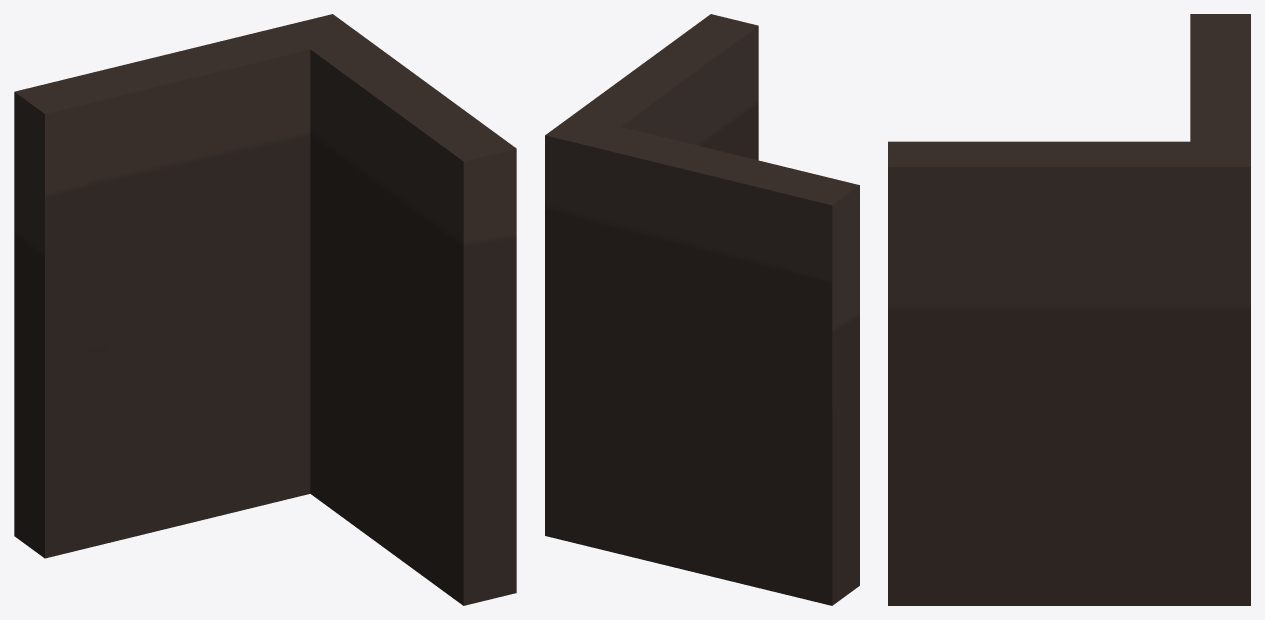
File: longcorner.fbx
The picture shows the model from 3 angles, left to right: view 1: azimuth 30°, elevation 25°; view 2: azimuth 150°, elevation 25°; view 3: azimuth 270°, elevation 25°; orthographic projection. The views are drawn at different scales.
Visible parts, largest first — view 1: Cube; view 2: Cube; view 3: Cube.
Part boxes in pixels (x1,y1,x2,y2): Cube: (14,14,516,605); Cube: (545,14,859,605); Cube: (888,14,1250,605).
Bounding box in the file's own units: 120 × 160 × 120.
